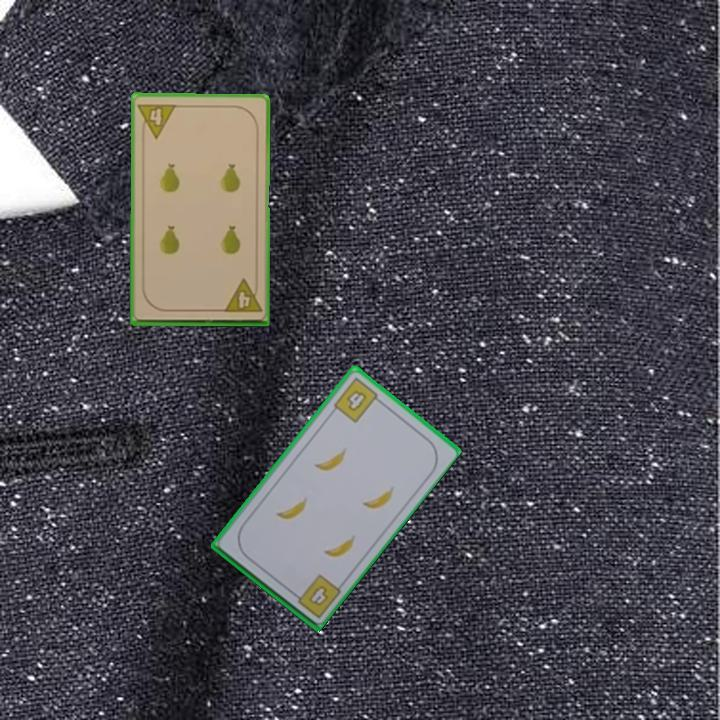4b: (329, 374, 385, 426), (288, 571, 343, 621)
4p: (135, 100, 179, 141), (220, 276, 264, 315)
